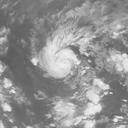cyclone: (35, 22, 92, 79)
